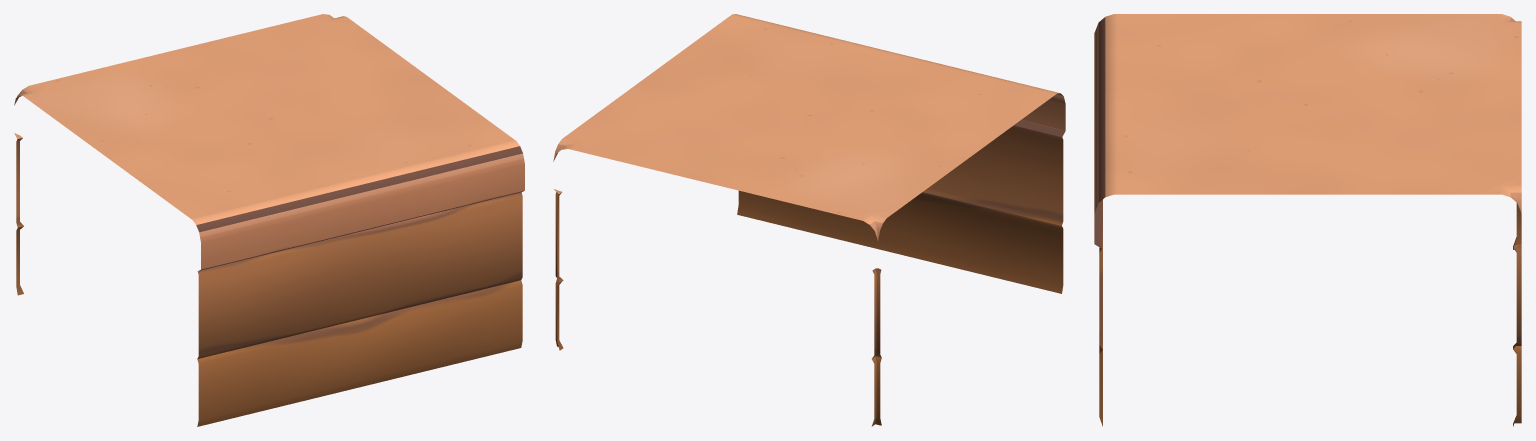
File: ground_t.glb
3 views of the same model, side by side, from view 1: azimuth 30°, elevation 25°; view 2: azimuth 150°, elevation 25°; view 3: azimuth 270°, elevation 25° (orthographic). The views are drawn at different scales.
Parts seen in each view (by area): view 1: ground_t; view 2: ground_t; view 3: ground_t.
Part boxes in pixels (box(x1,y1,x2,y2)): ground_t: box(14, 14, 524, 426); ground_t: box(553, 14, 1065, 426); ground_t: box(1094, 14, 1521, 426).
Bounding box in the file's own units: 1 × 0.6 × 1.
Materials: 2 (2 with a texture image).
